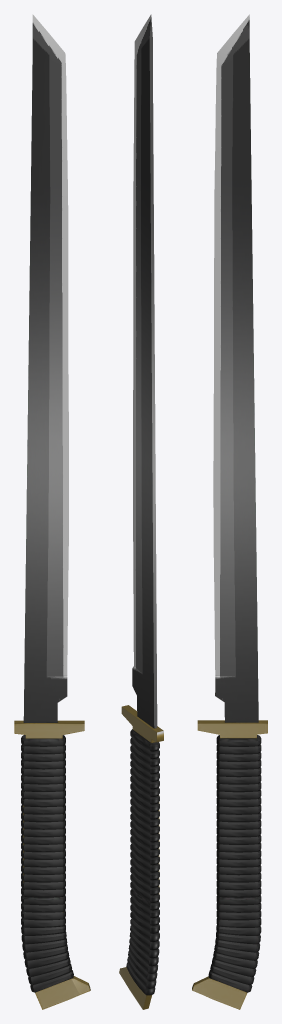
The model's file is Crossblade.fbx.
3 views of the same model, side by side, from view 1: azimuth 90°, elevation 25°; view 2: azimuth 210°, elevation 25°; view 3: azimuth 270°, elevation 25° (orthographic).
Parts seen in each view (by area): view 1: 1; view 2: 1; view 3: 1.
Boxes of the visible parts, bbox=[...] form: 1: bbox=[14, 14, 90, 1009]; 1: bbox=[119, 14, 163, 1009]; 1: bbox=[192, 14, 267, 1009].
Size of the model in its own units: 0.00718 by 0.5122 by 0.0355.
